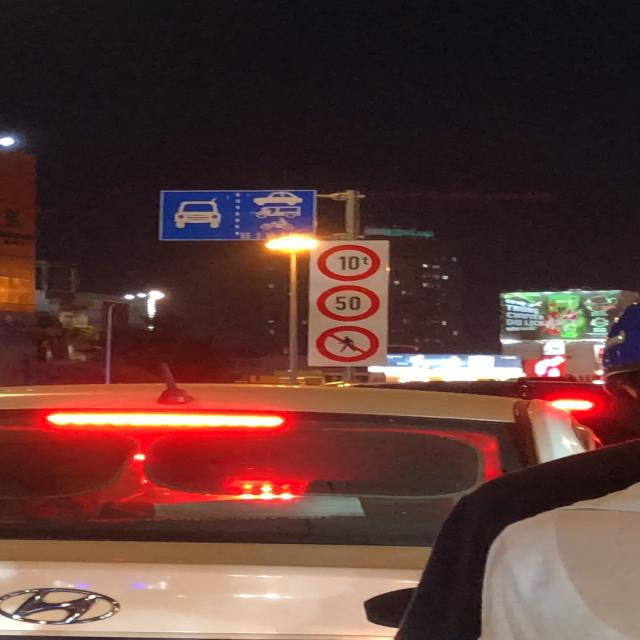Bien bao cam nguoi di bo: (317, 325, 382, 363)
Bien bao toc do toi da cho phep: (318, 284, 382, 322)
